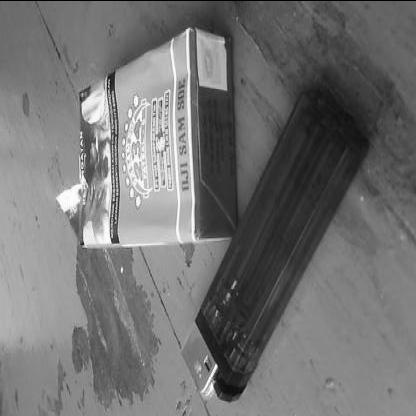objects: (78, 26, 236, 246)
